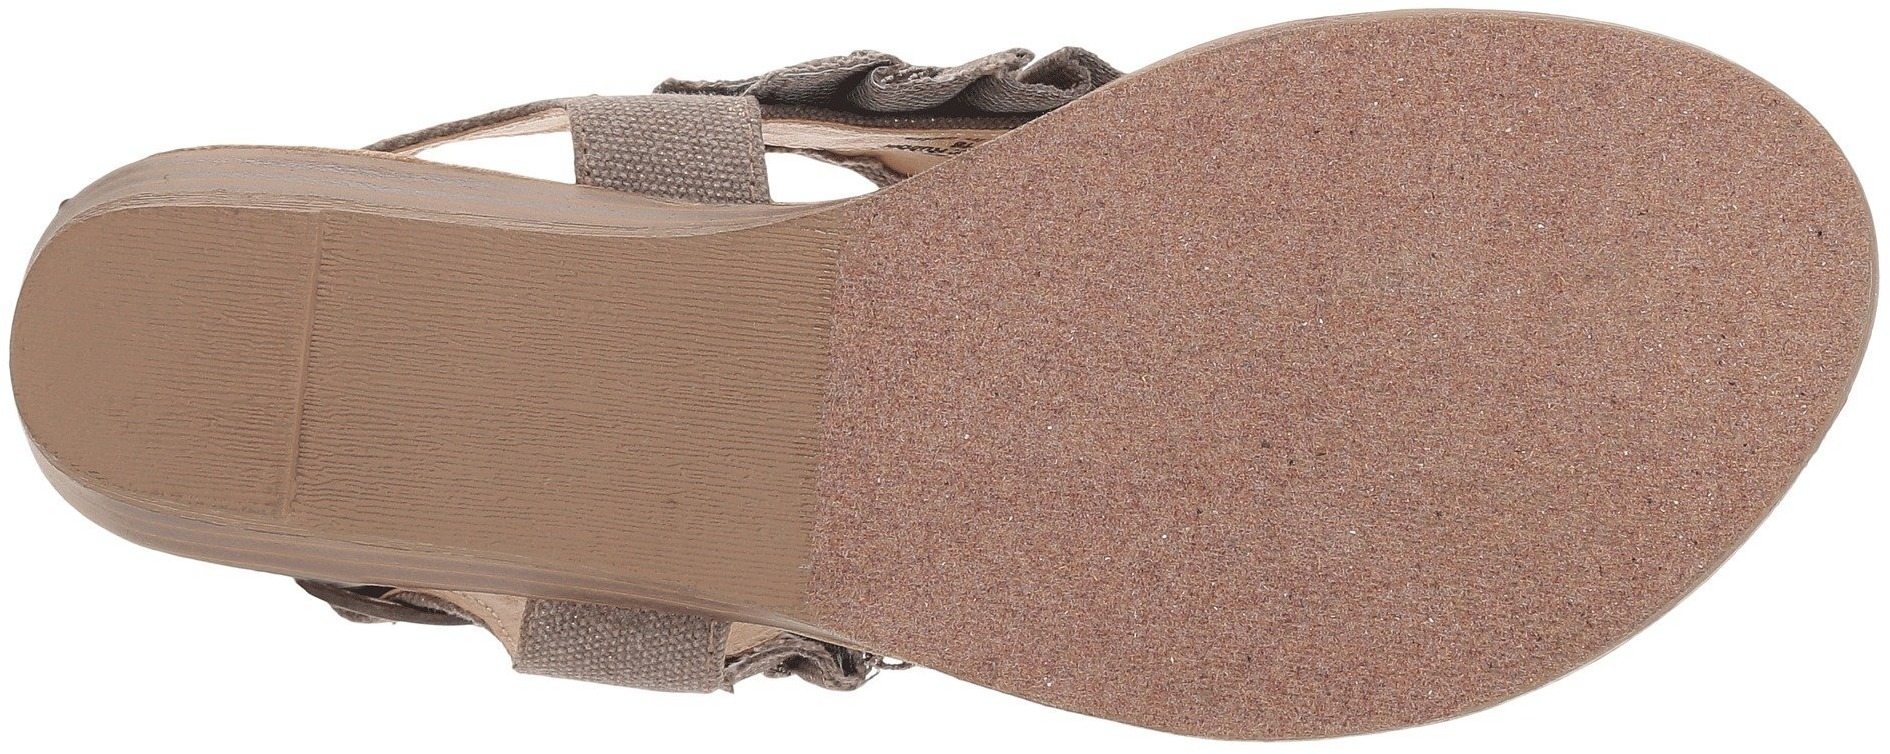other: (442, 298, 716, 550), (84, 263, 301, 463)
